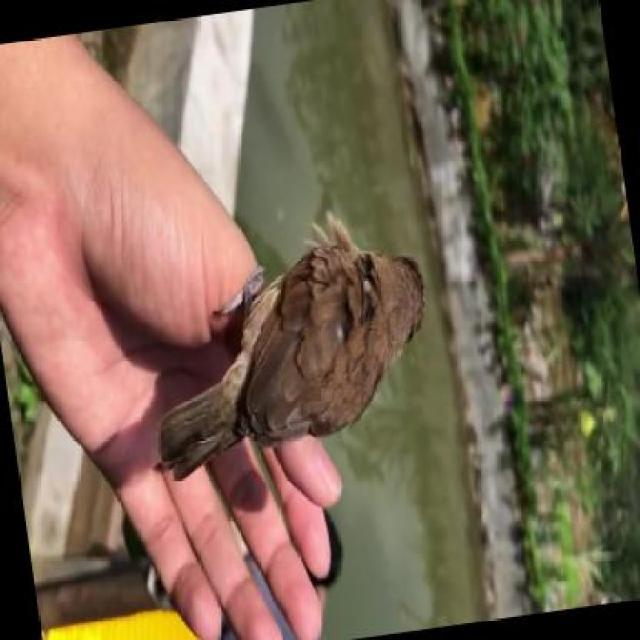Bird: (103, 225, 480, 486)
